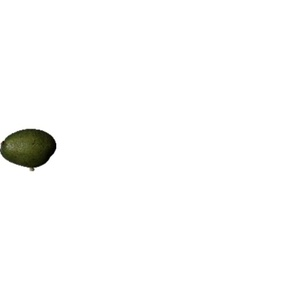abacate: (2, 125, 59, 168)
